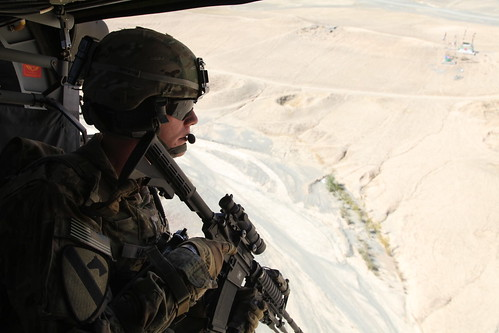soldier: (1, 41, 264, 333)
weapon: (135, 144, 320, 333)
